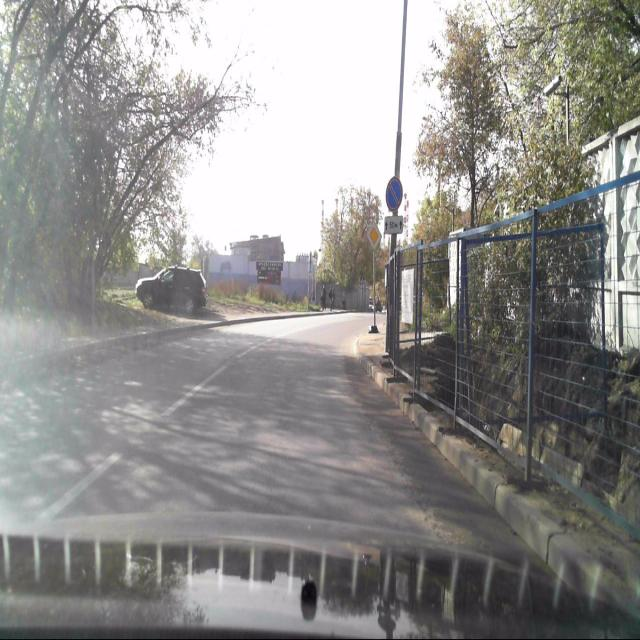road sign: (367, 220, 382, 252), (384, 212, 404, 235)
